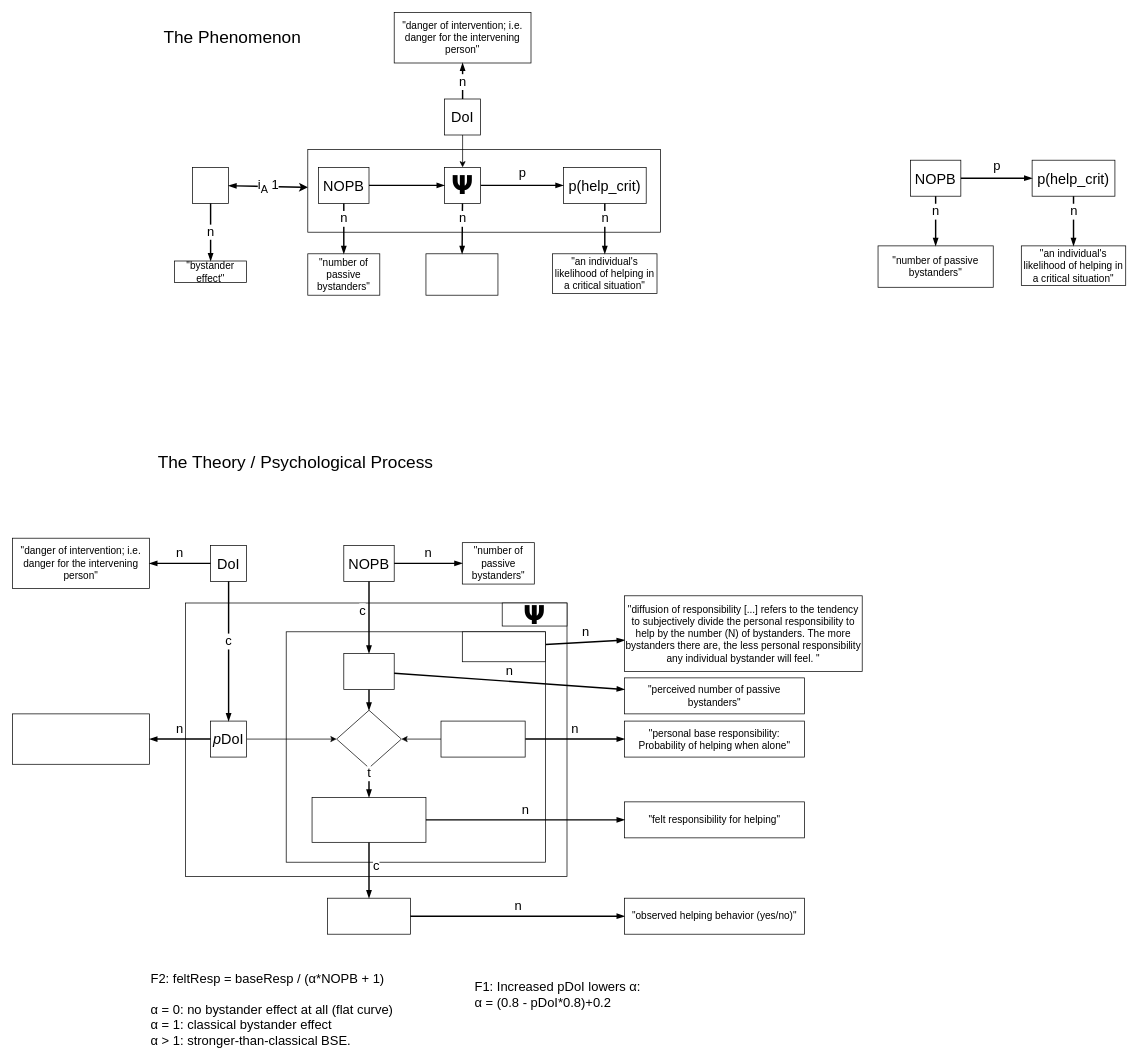
Image size: 1138x1062. Some labels were removed from this diagram. The shapes that lost their labels are listed below. From the top down, each one's centre as x and y in pixels, then its label:
[210,185]: BSE
[461,274]: "psyche"
[503,646]: DR
[368,671]: p NOPB
[80,738]: "perceived danger of intervention"
[368,739]: F1, F2
[482,738]: baseResp
[368,819]: feltResp
[368,915]: helping
